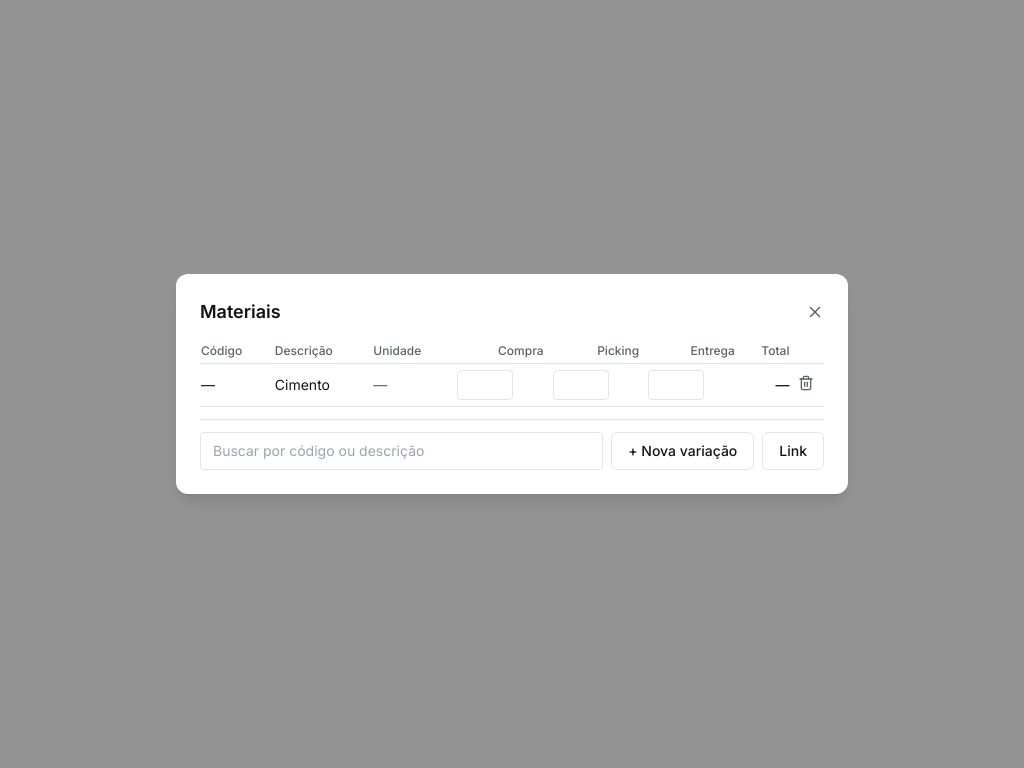
MaterialsPopup › pré-preenche o código no formulário com o que já foi digitado na busca
Type "CA-25" into the search field with placeholder "Buscar por código ou descrição".
click(402, 451); type("CA-25")  # box left=200, top=432, right=603, bottom=470
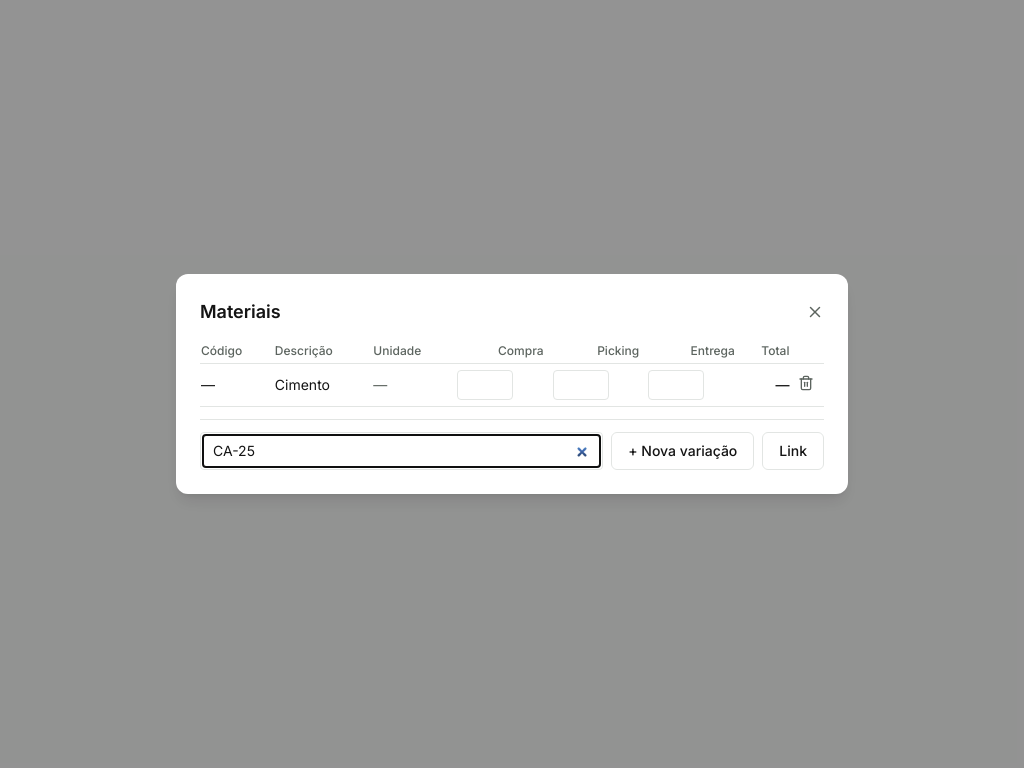
Click the button "+ Nova variação".
click(683, 451)  # box left=611, top=432, right=754, bottom=470
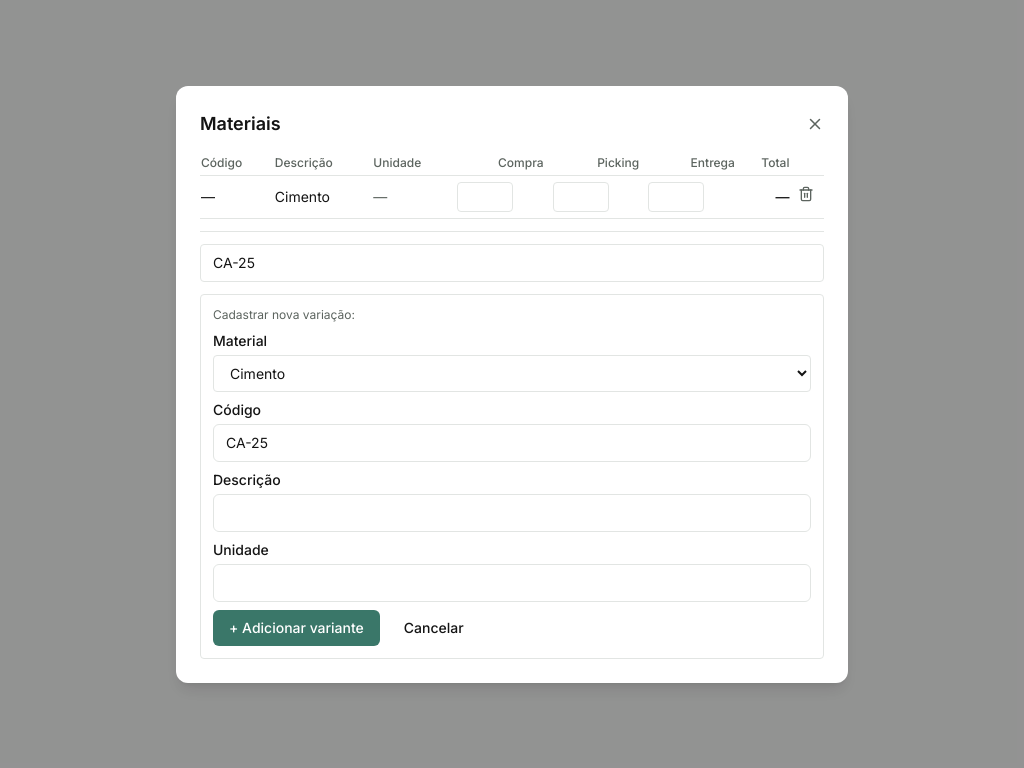
expect the field labelled "Código" holds "CA-25": met, box left=213, top=424, right=811, bottom=462
